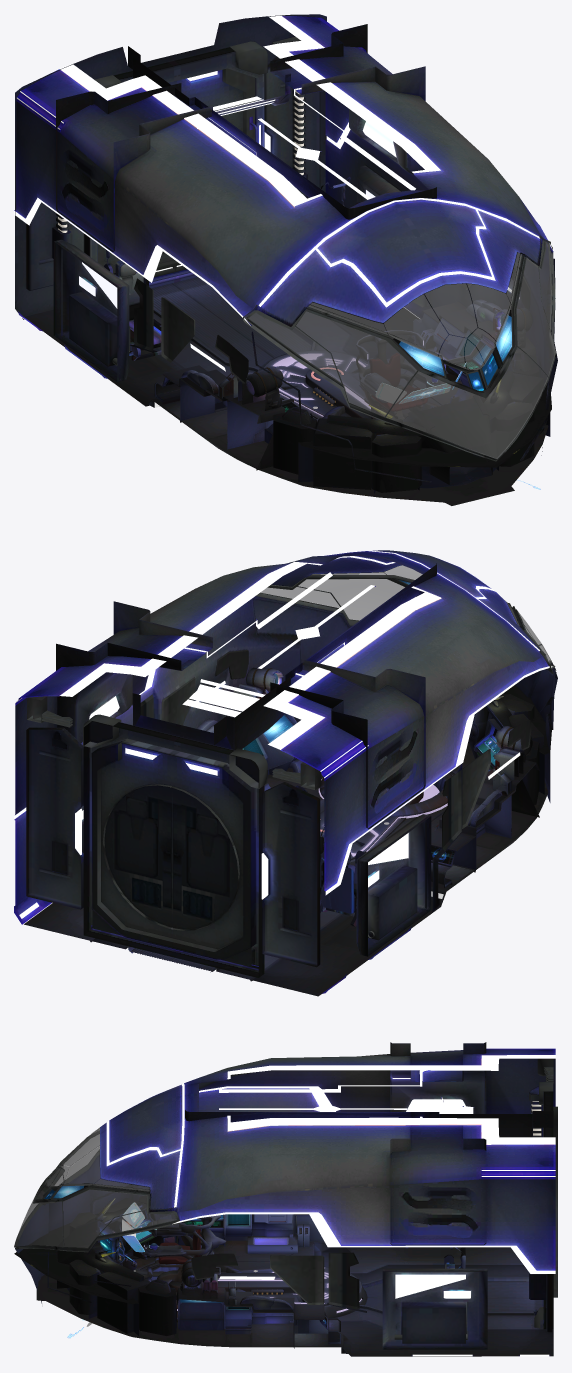
The model's file is fighter_inside.glb.
3 views of the same model, one above another, from view 1: azimuth 30°, elevation 25°; view 2: azimuth 150°, elevation 25°; view 3: azimuth 270°, elevation 25° (orthographic). The views are drawn at different scales.
Parts seen in each view (by area): view 1: Object_2, Object_27, Object_4, Object_42, Object_26, Object_35, Object_39, Object_19, Object_40, Object_3, Object_29, Object_11 (+2 smaller); view 2: Object_2, Object_26, Object_35, Object_4, Object_39, Object_27, Object_42, Object_40, Object_11, Object_3, Object_5; view 3: Object_2, Object_4, Object_26, Object_42, Object_35, Object_27, Object_39, Object_40, Object_29, Object_3, Object_19, Object_34.
Part boxes in pixels (x1,y1,x2,y2): Object_2: [14, 14, 557, 482]; Object_27: [249, 242, 555, 458]; Object_4: [24, 277, 548, 505]; Object_42: [273, 352, 551, 493]; Object_26: [14, 15, 552, 377]; Object_35: [94, 36, 556, 461]; Object_39: [154, 299, 532, 470]; Object_19: [403, 398, 492, 485]; Object_40: [161, 302, 535, 423]; Object_3: [165, 310, 511, 417]; Object_29: [356, 330, 424, 419]; Object_11: [104, 176, 360, 360]; Object_2: [14, 550, 557, 993]; Object_26: [14, 550, 552, 992]; Object_35: [27, 565, 556, 964]; Object_4: [24, 742, 548, 996]; Object_39: [197, 667, 539, 887]; Object_27: [261, 565, 551, 663]; Object_42: [294, 685, 551, 804]; Object_40: [252, 668, 539, 851]; Object_11: [320, 827, 364, 926]; Object_3: [243, 580, 499, 864]; Object_5: [318, 778, 447, 898]; Object_2: [15, 1042, 555, 1355]; Object_4: [36, 1228, 553, 1356]; Object_26: [106, 1055, 555, 1356]; Object_42: [14, 1195, 176, 1335]; Object_35: [14, 1058, 557, 1339]; Object_27: [14, 1128, 175, 1247]; Object_39: [155, 1214, 340, 1344]; Object_40: [154, 1214, 324, 1328]; Object_29: [133, 1215, 226, 1283]; Object_3: [44, 1185, 326, 1327]; Object_19: [57, 1221, 122, 1288]; Object_34: [142, 1224, 201, 1263].
Size of what is drawn, in the model's own units: 3.7 by 2.94 by 6.7.
39 materials, 30 textured.
